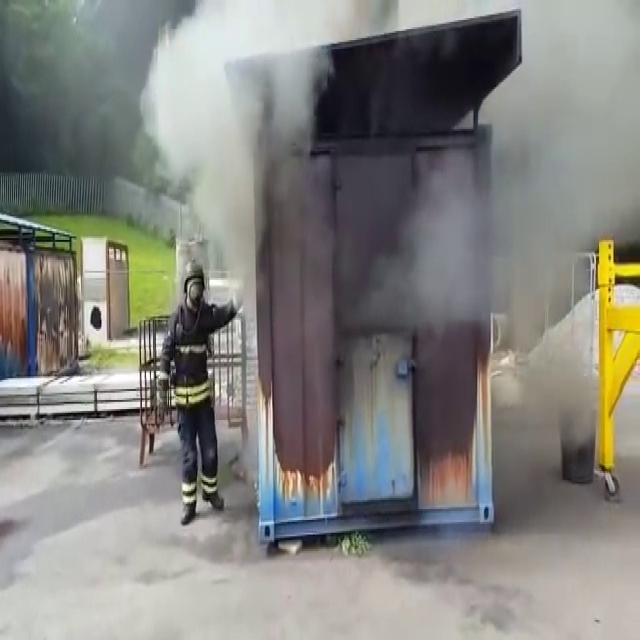Smoke: (138, 0, 306, 269), (481, 0, 640, 251)
